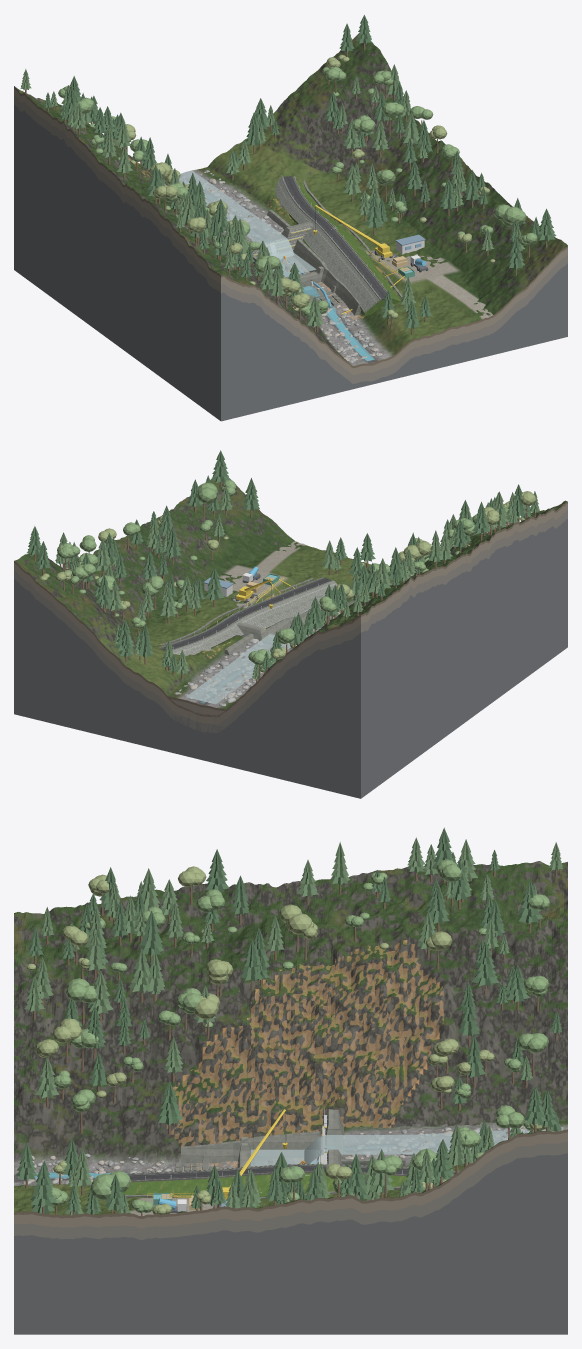
The model's file is sabo_dam_viewer.glb.
The picture shows the model from 3 angles, top to bottom: view 1: azimuth 30°, elevation 25°; view 2: azimuth 150°, elevation 25°; view 3: azimuth 270°, elevation 25°; orthographic projection. The views are drawn at different scales.
Visible parts, largest first — view 1: terrain_existing_sides, terrain_existing, env_tree_cedar_dark, env_tree_cedar_mid, env_tree_broad_green, terrain_excavated, env_tree_broad_olive, left_bank_levee_revetment, water_flood, terrain_final, env_tree_trunks, left_bank_levee_road (+7 smaller); view 2: terrain_existing_sides, terrain_existing, env_tree_cedar_dark, env_tree_cedar_mid, env_tree_broad_green, terrain_excavated, terrain_final, left_bank_levee_revetment, terrain_final_sides, env_tree_broad_olive, water_flood, env_tree_trunks (+3 smaller); view 3: terrain_existing, terrain_existing_sides, env_tree_cedar_dark, excavation_volume, env_tree_cedar_mid, env_tree_broad_green, env_tree_broad_olive, water_flood, env_tree_trunks, side_wall_right, terrain_final, left_bank_levee_core (+4 smaller).
Boxes of the visible parts, x1,y1,x2,y2 form: terrain_existing_sides: (14, 86, 567, 421); terrain_existing: (14, 33, 567, 365); env_tree_cedar_dark: (44, 15, 556, 328); env_tree_cedar_mid: (20, 64, 524, 327); env_tree_broad_green: (58, 66, 537, 316); terrain_excavated: (367, 250, 493, 321); env_tree_broad_olive: (126, 54, 495, 319); left_bank_levee_revetment: (275, 175, 379, 312); water_flood: (179, 171, 316, 277); terrain_final: (179, 167, 465, 317); env_tree_trunks: (25, 43, 547, 334); left_bank_levee_road: (282, 176, 386, 299); terrain_existing_sides: (14, 501, 567, 798); terrain_existing: (14, 478, 567, 695); env_tree_cedar_dark: (27, 450, 531, 671); env_tree_cedar_mid: (55, 485, 539, 679); env_tree_broad_green: (57, 479, 508, 672); terrain_excavated: (218, 541, 315, 608); terrain_final: (167, 560, 291, 709); left_bank_levee_revetment: (172, 580, 337, 655); terrain_final_sides: (167, 696, 226, 765); env_tree_broad_olive: (40, 491, 536, 658); water_flood: (186, 629, 317, 704); env_tree_trunks: (34, 482, 535, 682); terrain_existing: (14, 861, 567, 1215); terrain_existing_sides: (14, 1129, 567, 1334); env_tree_cedar_dark: (16, 827, 561, 1214); excavation_volume: (167, 940, 443, 1169); env_tree_cedar_mid: (24, 837, 563, 1215); env_tree_broad_green: (51, 859, 550, 1212); env_tree_broad_olive: (26, 866, 554, 1214); water_flood: (251, 1127, 563, 1166); env_tree_trunks: (25, 869, 557, 1216); side_wall_right: (181, 1131, 320, 1164); terrain_final: (344, 1119, 567, 1166); left_bank_levee_core: (121, 1173, 407, 1196).
Size of the model in its own units: 113 by 66.55 by 116.
128 materials, 54 textured.
